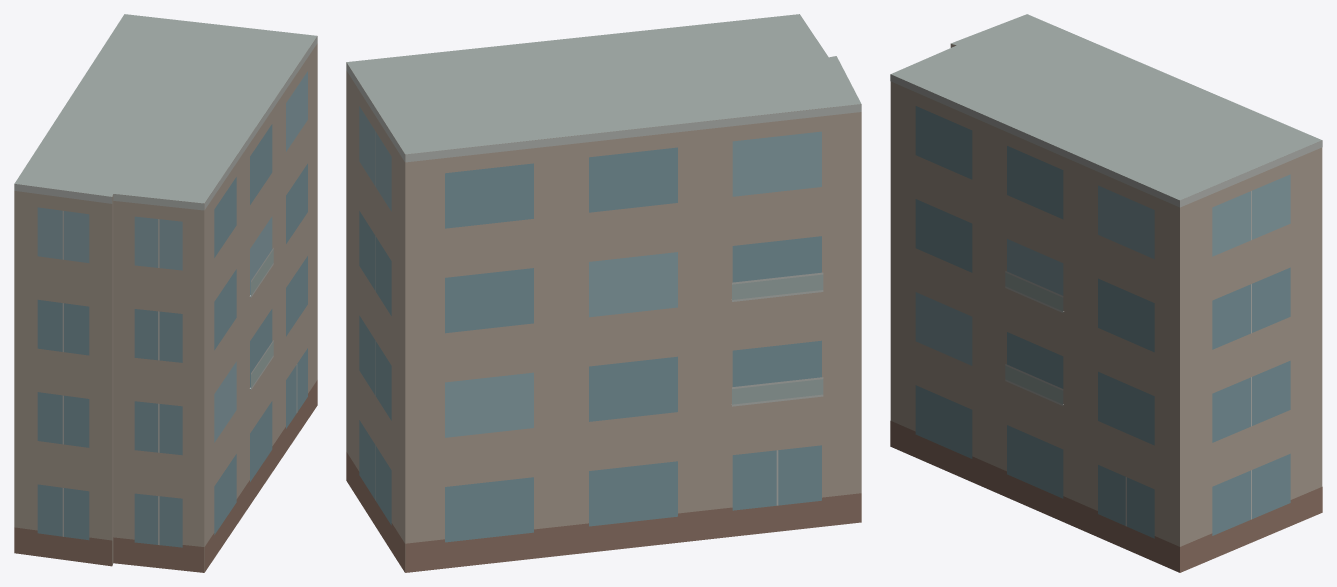
The model's file is survey-upis-32956826.glb.
3 views of the same model, side by side, from view 1: azimuth 30°, elevation 25°; view 2: azimuth 150°, elevation 25°; view 3: azimuth 270°, elevation 25° (orthographic). The views are drawn at different scales.
Parts seen in each view (by area): view 1: survey-upis-32956826.tmp; view 2: survey-upis-32956826.tmp; view 3: survey-upis-32956826.tmp.
Boxes of the visible parts, x1=… form: survey-upis-32956826.tmp: x1=14, y1=14, x2=317, y2=572; survey-upis-32956826.tmp: x1=346, y1=14, x2=861, y2=572; survey-upis-32956826.tmp: x1=890, y1=14, x2=1322, y2=572.
Bounding box in the file's own units: 13.75 × 12.8 × 13.46.
